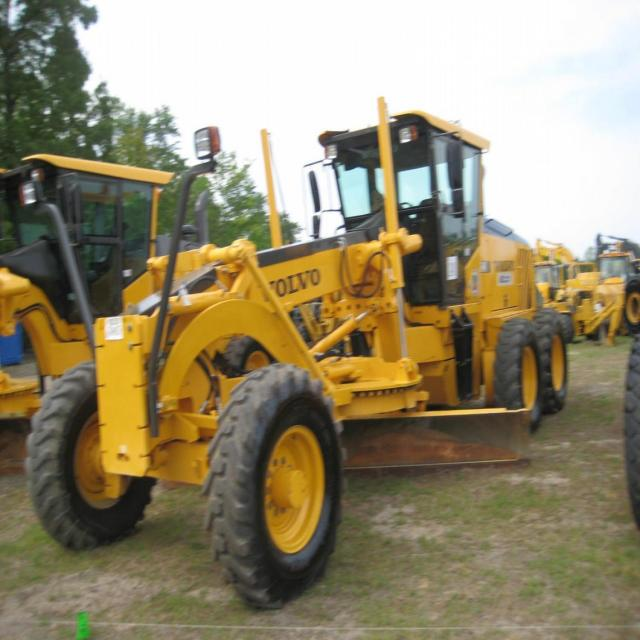Grader: (46, 102, 601, 610)
